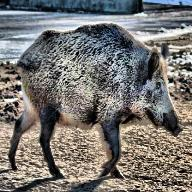boar: (3, 9, 185, 189)
